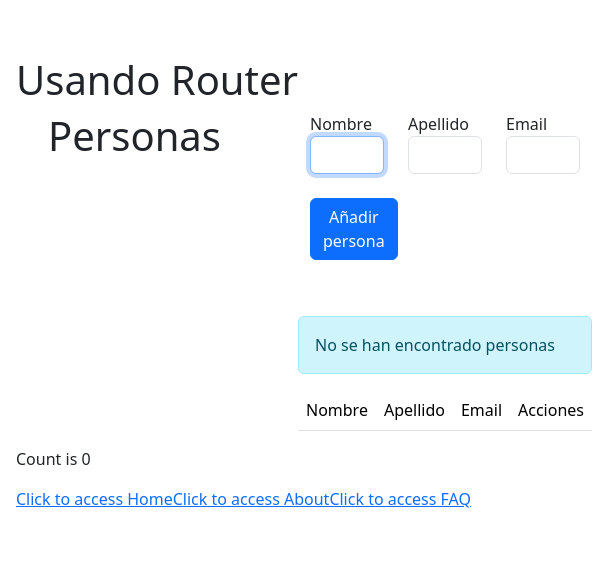
Delete persona › Delete-persona › Add persona OK
Type "Paco_delete" into the field with test id "name" at (347, 155), box left=310, top=136, right=384, bottom=174
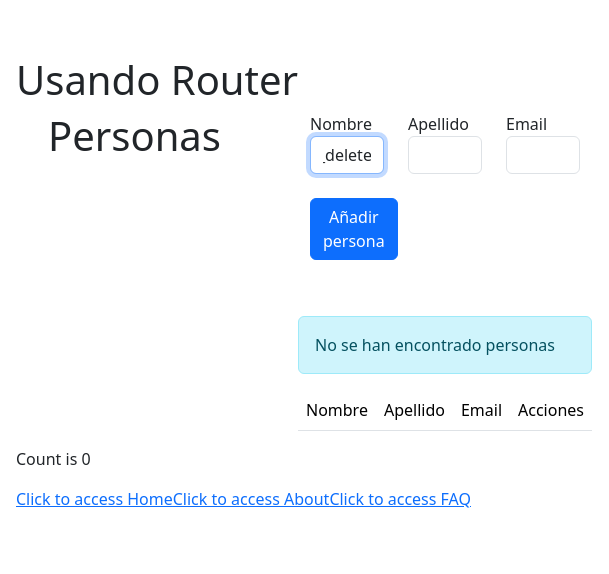
Type "Land" into the field with test id "surname" at (445, 155), box left=408, top=136, right=482, bottom=174
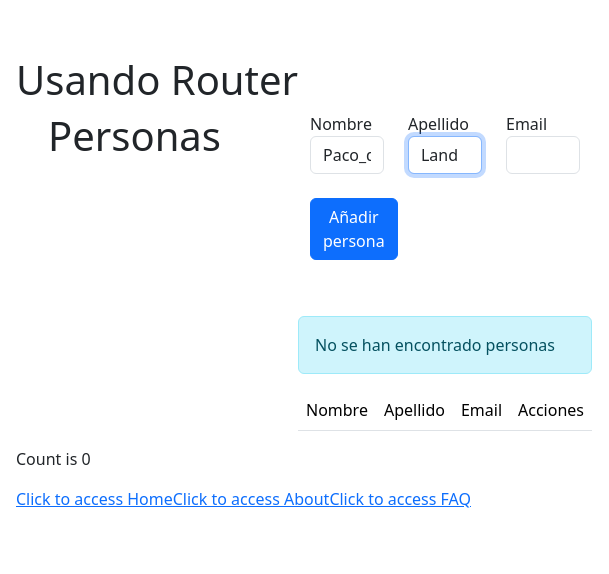
Type "pacoland@dynamic2.com" into the field with test id "email" at (543, 155), box left=506, top=136, right=580, bottom=174
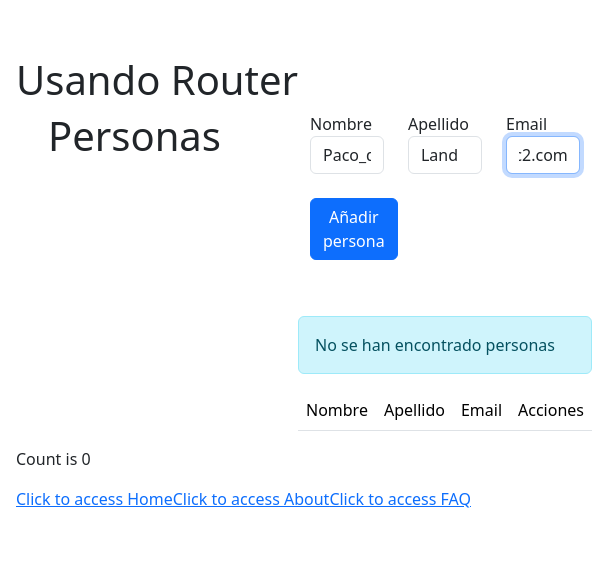
Click the button with test id "add-button" at (354, 229), box left=310, top=198, right=398, bottom=260
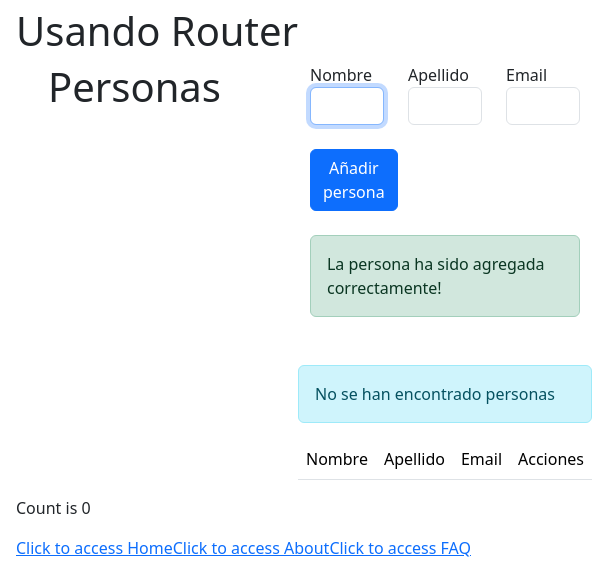
Expected: the message "La persona ha sido agregada correctamente!" is shown, left=310, top=234, right=580, bottom=316
